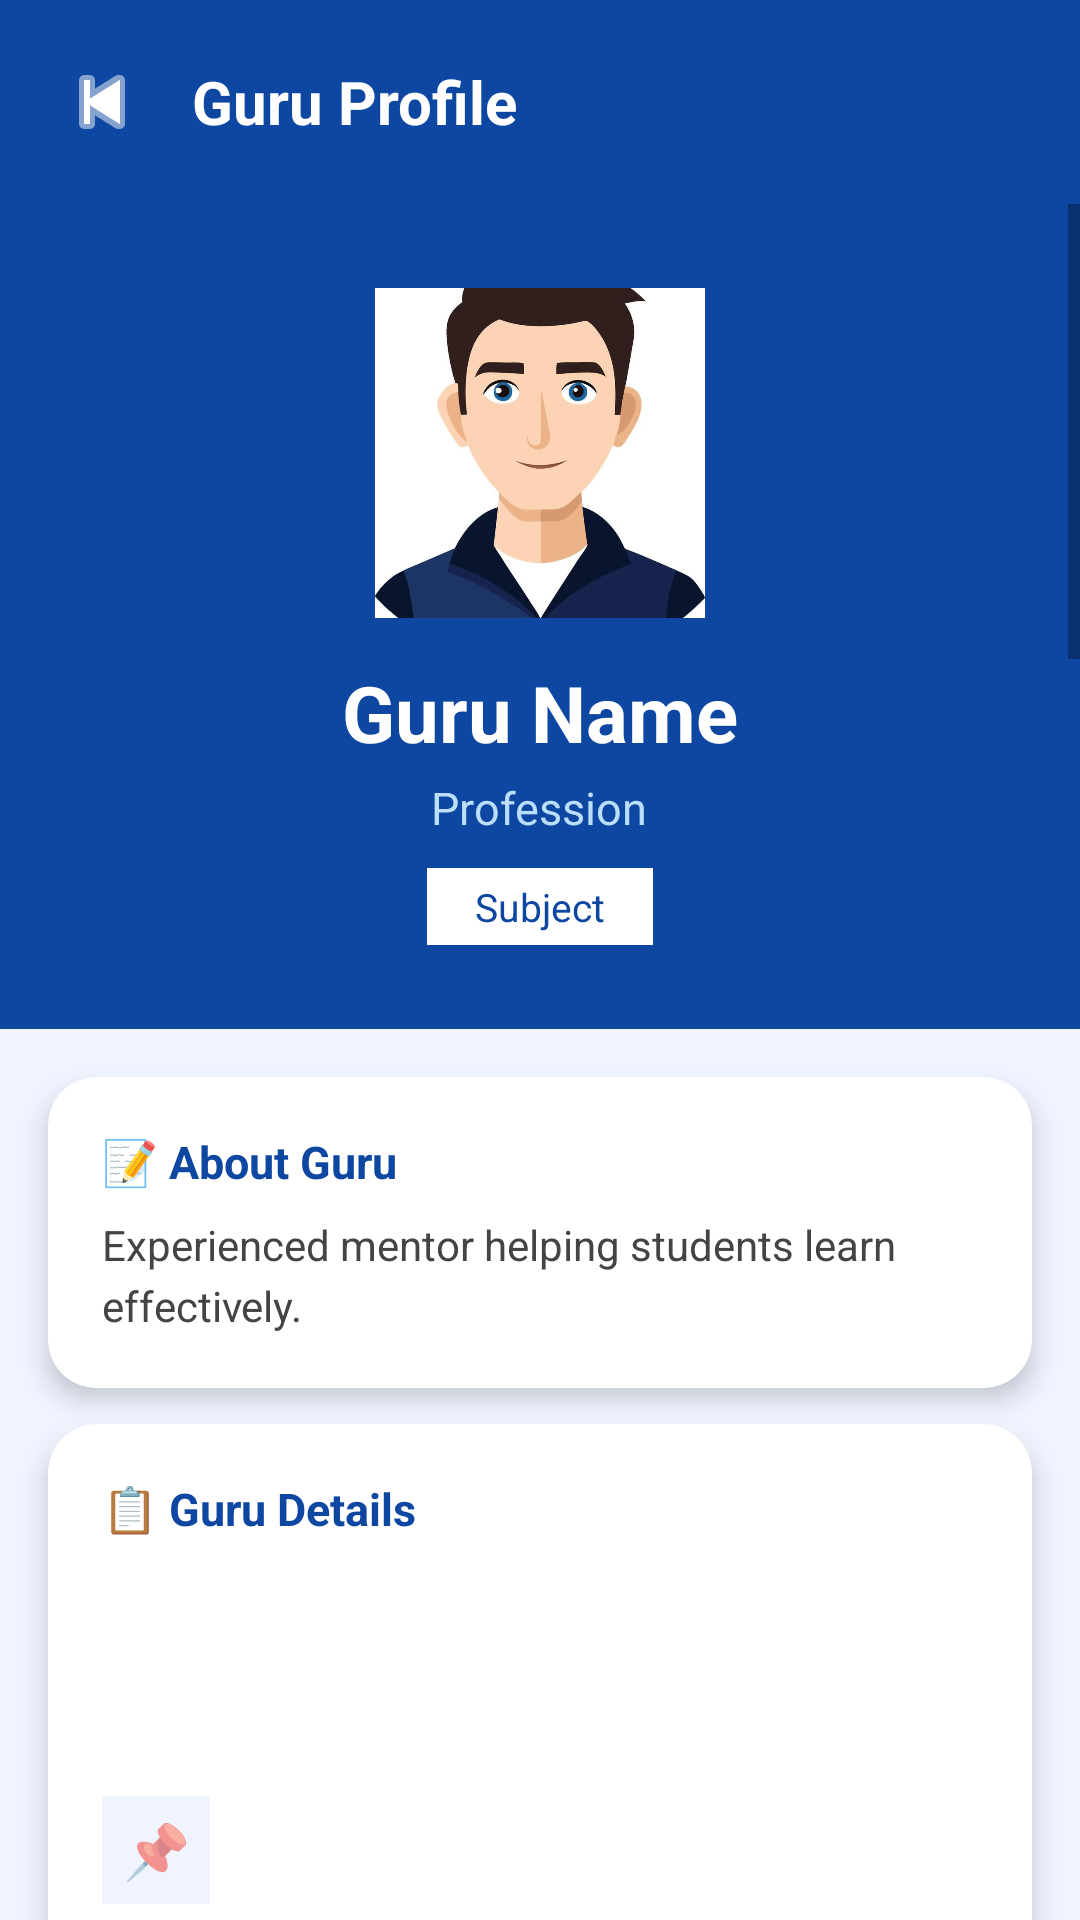

Icon bounding boxes for this 1080x1920 phone screenshot, format (x1, y1, x2, y2):
Back: (79, 75, 125, 129)
